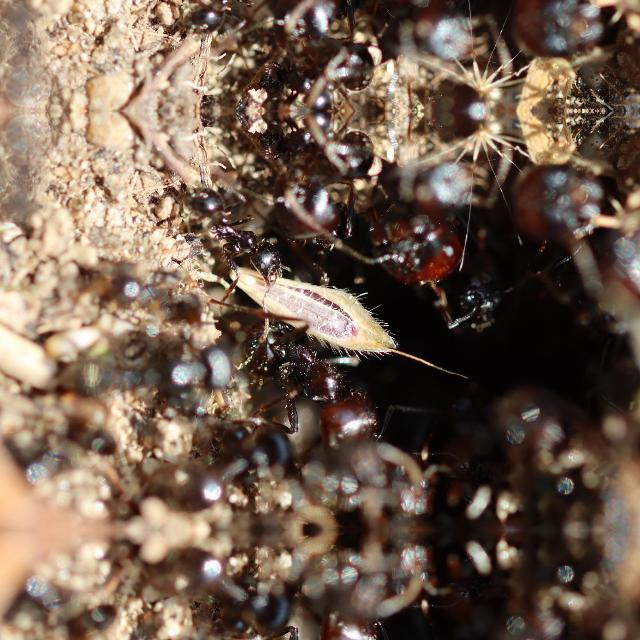Messor: (348, 171, 504, 335), (240, 298, 388, 464), (124, 422, 323, 526), (124, 532, 323, 636), (165, 169, 298, 299), (348, 0, 504, 49), (239, 594, 388, 640), (164, 0, 297, 51)
